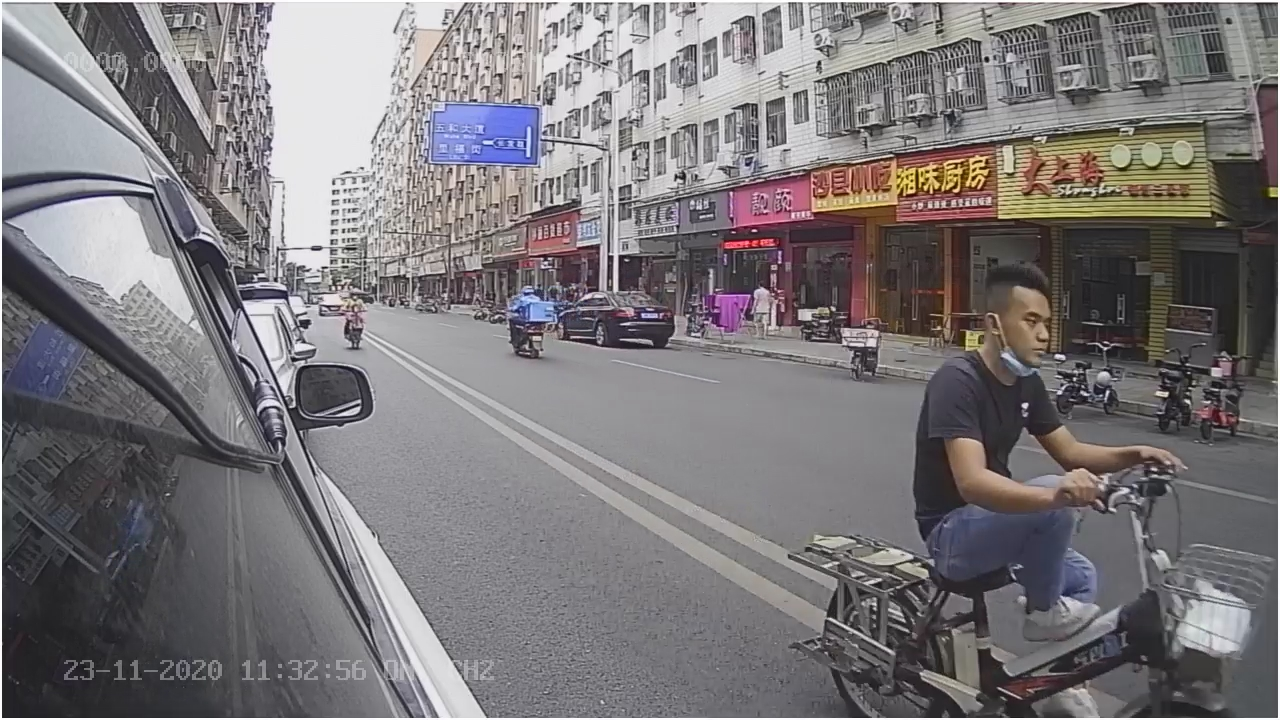person: (920, 248, 1144, 506)
